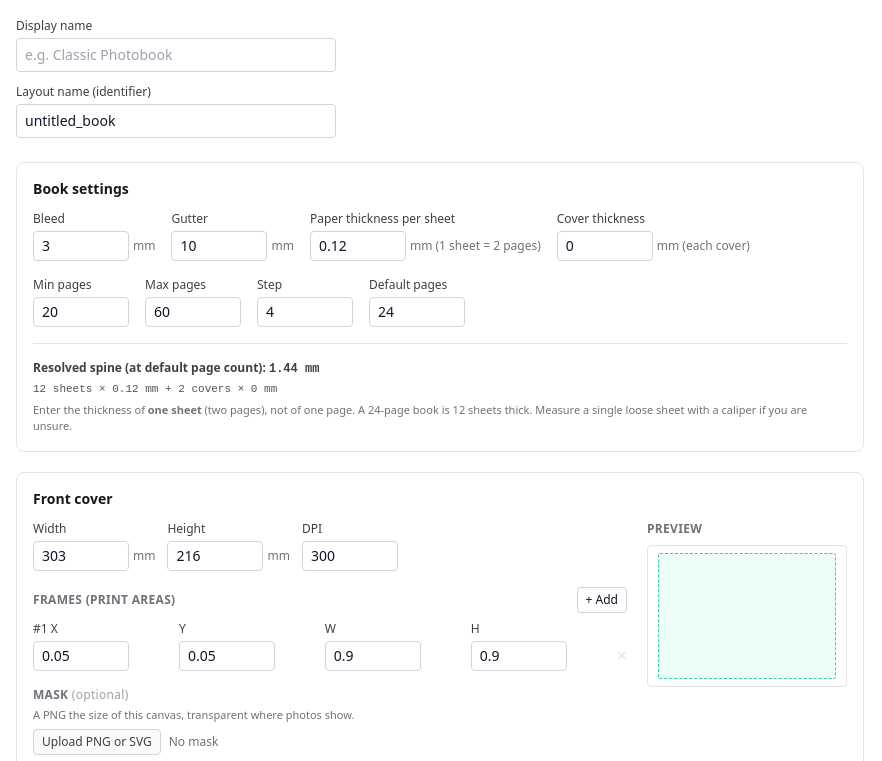
it: BookLayoutEditor component › blocks Save and shows an error when the draft is invalid
Replace the text in the field with test id "book-name-input" with "bad name!": (176, 121) [16, 104, 336, 138]
(page scrolled)
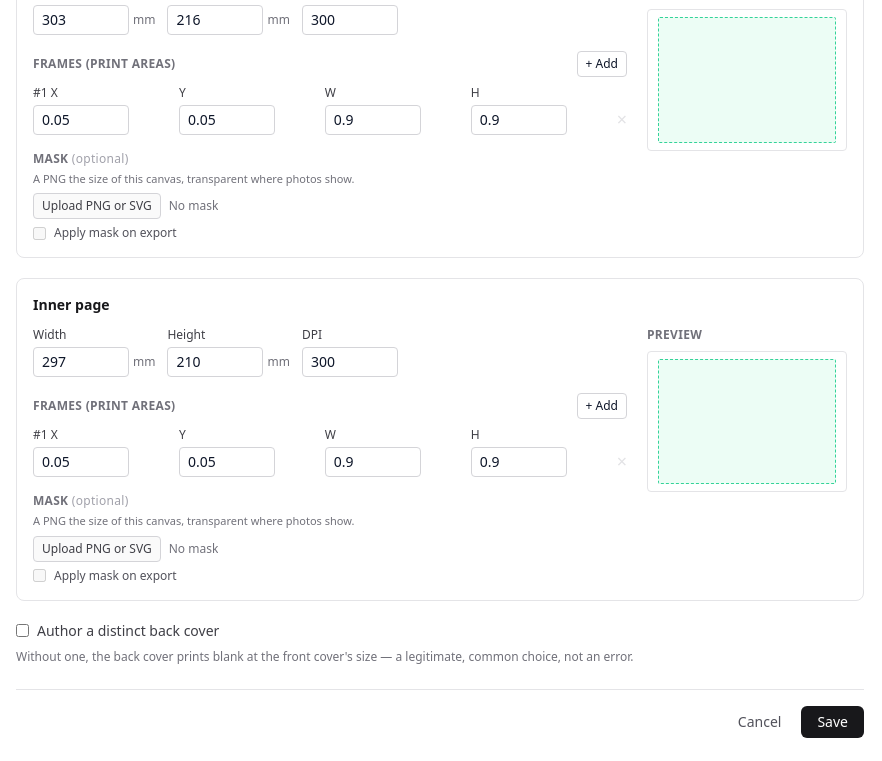
Click the button with test id "save-btn": (833, 722) [801, 706, 864, 738]
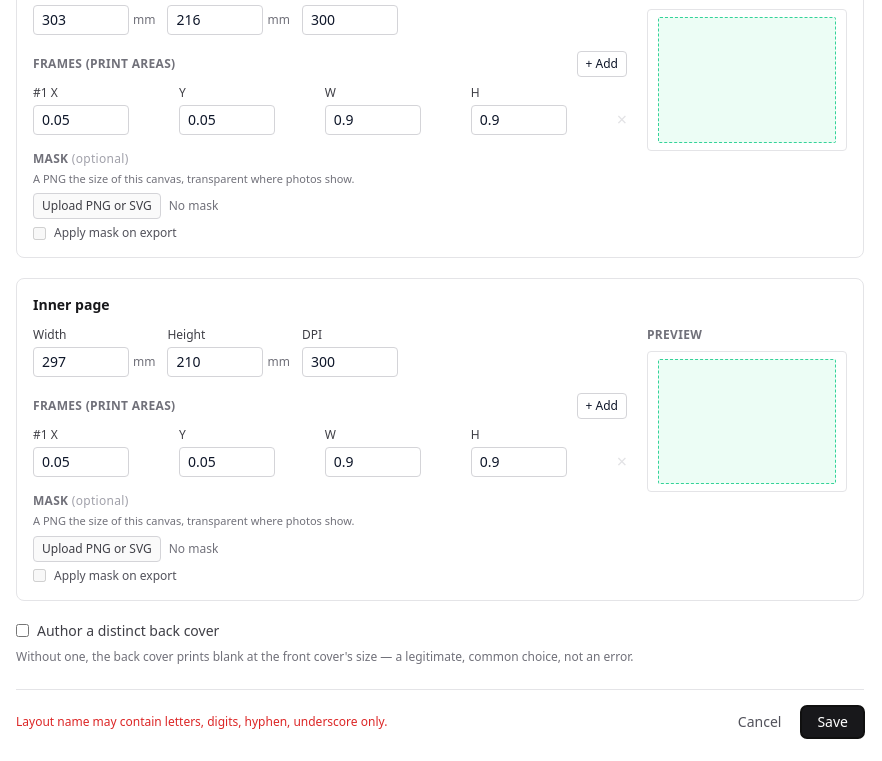
Expected: the text with test id "save-error" shows "letters, digits", [16, 712, 387, 730]
